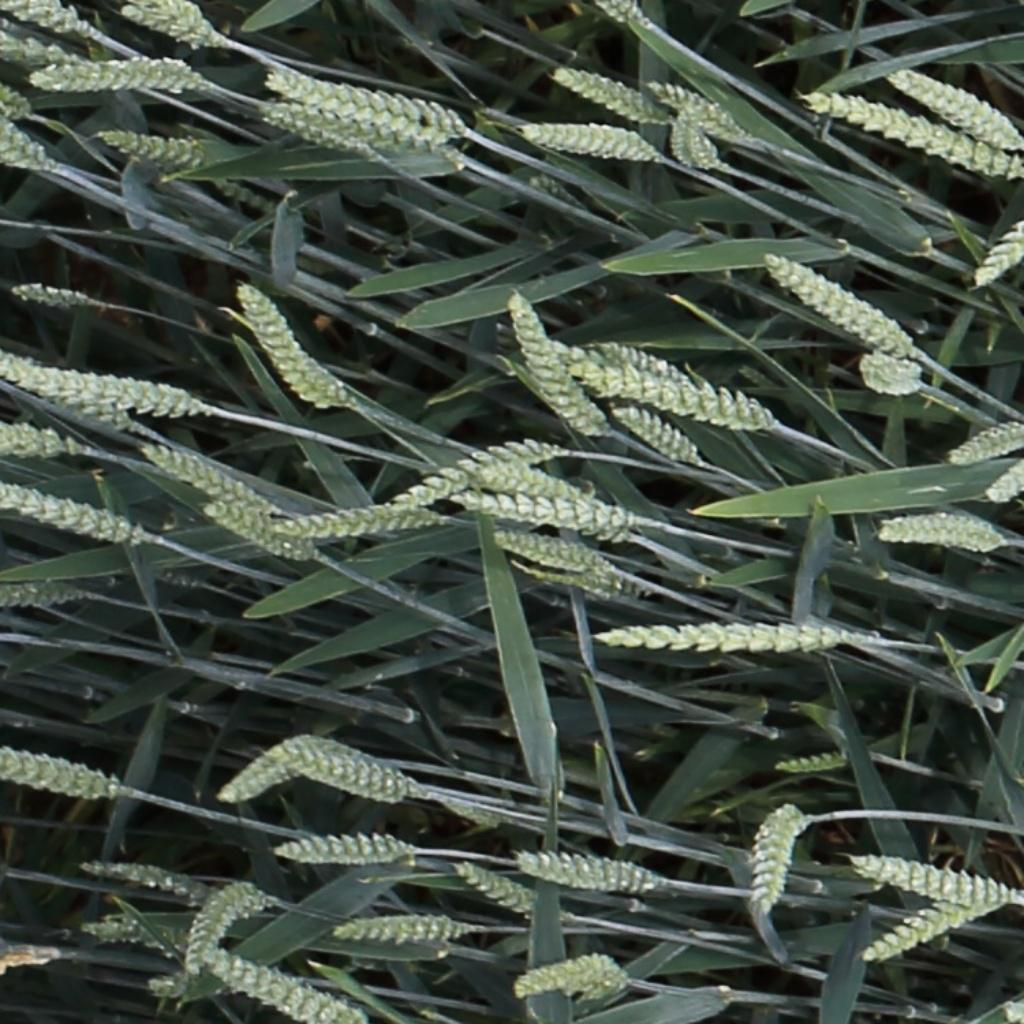0-0: (371, 423, 560, 528), (809, 94, 1022, 175), (501, 285, 604, 439), (764, 253, 909, 360), (230, 279, 348, 409), (0, 350, 208, 418), (264, 70, 468, 136), (595, 613, 856, 659), (576, 367, 763, 427), (167, 877, 263, 992), (197, 948, 345, 1021), (285, 727, 419, 807), (892, 69, 1019, 146), (139, 443, 268, 513), (551, 65, 676, 137), (861, 895, 993, 962), (260, 99, 389, 166), (208, 722, 310, 806), (851, 860, 1014, 912), (0, 486, 143, 543), (453, 496, 634, 540), (0, 739, 119, 801), (750, 800, 813, 913), (644, 80, 755, 142), (202, 501, 308, 561), (30, 59, 196, 95), (488, 528, 608, 577), (281, 502, 441, 538), (969, 184, 1024, 285), (613, 404, 697, 465), (876, 516, 1014, 552), (514, 858, 656, 892), (77, 864, 204, 902), (595, 339, 689, 389), (122, 2, 221, 49), (520, 121, 656, 155), (514, 951, 623, 992), (78, 910, 177, 954), (274, 833, 413, 864), (327, 913, 469, 943), (451, 864, 533, 913), (551, 559, 648, 600), (850, 347, 923, 398), (466, 464, 573, 498), (673, 99, 719, 174), (96, 128, 197, 162), (1, 110, 54, 167), (980, 442, 1024, 510), (947, 425, 1024, 461), (8, 2, 81, 35), (144, 971, 204, 1004), (9, 283, 91, 305), (2, 585, 80, 606), (775, 756, 846, 774), (0, 80, 34, 116), (600, 0, 643, 28), (527, 173, 566, 201), (1007, 985, 1024, 1021)
